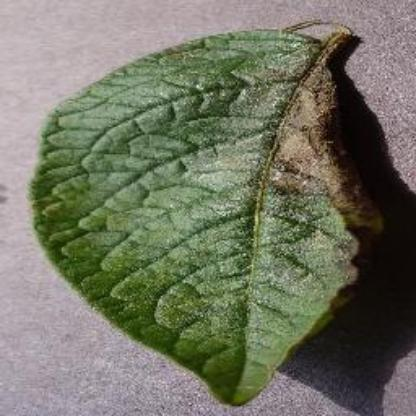Late-Blight: (25, 21, 406, 409)
